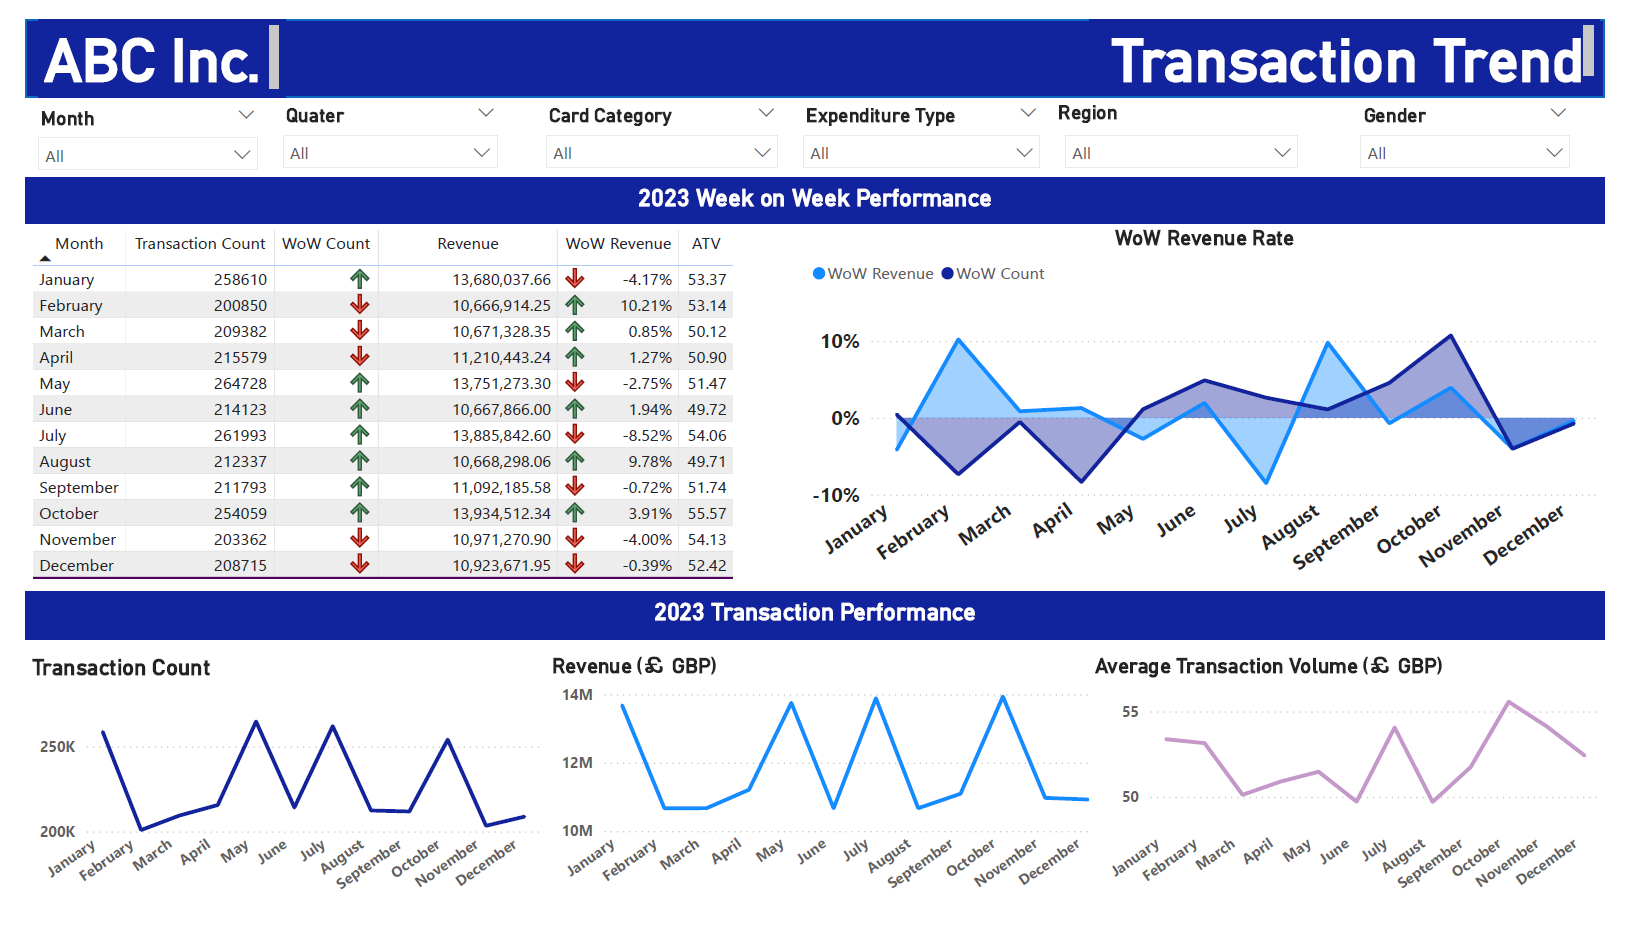

The dashboard page shown, as its layout file describes it:
{"tool":"powerbi","page":{"name":"Transaction Trend","canvas":[1280,720],"ordinal":1},"visuals":[{"type":"tableEx","title":"Transaction Count","fields":{"Values":["credit_card_detail_1103.Week_Start_Date.Variation.Date Hierarchy.Month","Sum(credit_card_detail_1103.Total_Trans_CT)","credit_card_detail_1103.WoW_count_order_RATE","Sum(credit_card_detail_1103.Total_Revenue)","credit_card_detail_1103.MoM_Revenue_RATE","credit_card_detail_1103.MoM_ATV"]},"box":[0,165.5,631,297.9],"z":0},{"type":"lineChart","title":"Transaction Count","fields":{"Category":["credit_card_detail_1103.Week_Start_Date.Variation.Date Hierarchy.Month"],"Y":["Sum(credit_card_detail_1103.Total_Trans_CT)"]},"box":[0,513.3,421,207.3],"z":1000},{"type":"lineChart","title":"Revenue (￡ GBP)","fields":{"Category":["credit_card_detail_1103.Week_Start_Date.Variation.Date Hierarchy.Month"],"Y":["Sum(credit_card_detail_1103.Total_Revenue)"]},"box":[421,513.3,456.6,207.3],"z":2000},{"type":"lineChart","title":"Average Transaction Volume (￡ GBP)","fields":{"Y":["credit_card_detail_1103.MoM_ATV"],"Category":["credit_card_detail_1103.Week_Start_Date.Variation.Date Hierarchy.Month"]},"box":[861.4,513.3,417.8,207.3],"z":3000},{"type":"lineChart","title":"WoW Revenue Rate","fields":{"Y":["credit_card_detail_1103.MoM_Revenue_RATE","credit_card_detail_1103.WoW_count_order_RATE"],"Category":["credit_card_detail_1103.Week_Start_Date.Variation.Date Hierarchy.Month"]},"box":[631,165.5,646.6,297.9],"z":4000},{"type":"textbox","box":[0,463.1,1277.6,38.9],"z":5000},{"type":"textbox","box":[0,127.9,1277.6,37.2],"z":6000},{"type":"slicer","fields":{"Values":["credit_card_detail_1103.Qtr"]},"box":[197.5,63.4,194.3,58.3],"z":7000},{"type":"slicer","fields":{"Values":["credit_card_detail_1103.Card_Category"]},"box":[411.3,63.4,207.3,58.3],"z":8000},{"type":"slicer","fields":{"Values":["customer_detail_1103.Gender"]},"box":[1070.3,63.4,189.4,56.7],"z":9000},{"type":"slicer","fields":{"Values":["credit_card_detail_1103.Exp_Type"]},"box":[618.5,63.4,212.1,58.3],"z":10000},{"type":"slicer","title":"Region","fields":{"Values":["customer_detail_1103.State_cd"]},"box":[831,64.5,208.7,55.5],"z":11000},{"type":"slicer","fields":{"Values":["credit_card_detail_1103.Month"]},"box":[0,65,197.5,56.7],"z":12000},{"type":"shape","box":[0,0,1277.9,65.4],"z":13000},{"type":"textbox","box":[853.4,0,426.3,60],"z":14000},{"type":"textbox","box":[0,0,200.6,63.6],"z":15000}]}

Visuals, with their boxes in screenshot pixels (x1, y1, x2, y2), scaled from the page's 1280x720 canvas onto the 1629x925 screenshot:
"Transaction Count" tableEx: bbox(0, 213, 803, 595)
"Transaction Count" lineChart: bbox(0, 659, 536, 924)
"Revenue (￡ GBP)" lineChart: bbox(536, 659, 1117, 924)
"Average Transaction Volume (￡ GBP)" lineChart: bbox(1096, 659, 1628, 924)
"WoW Revenue Rate" lineChart: bbox(803, 213, 1626, 595)
textbox: bbox(0, 595, 1626, 645)
textbox: bbox(0, 164, 1626, 212)
slicer - credit_card_detail_1103.Qtr: bbox(251, 81, 499, 156)
slicer - credit_card_detail_1103.Card_Category: bbox(523, 81, 787, 156)
slicer - customer_detail_1103.Gender: bbox(1362, 81, 1603, 154)
slicer - credit_card_detail_1103.Exp_Type: bbox(787, 81, 1057, 156)
"Region" slicer: bbox(1058, 83, 1323, 154)
slicer - credit_card_detail_1103.Month: bbox(0, 84, 251, 156)
shape: bbox(0, 0, 1626, 84)
textbox: bbox(1086, 0, 1628, 77)
textbox: bbox(0, 0, 255, 82)
